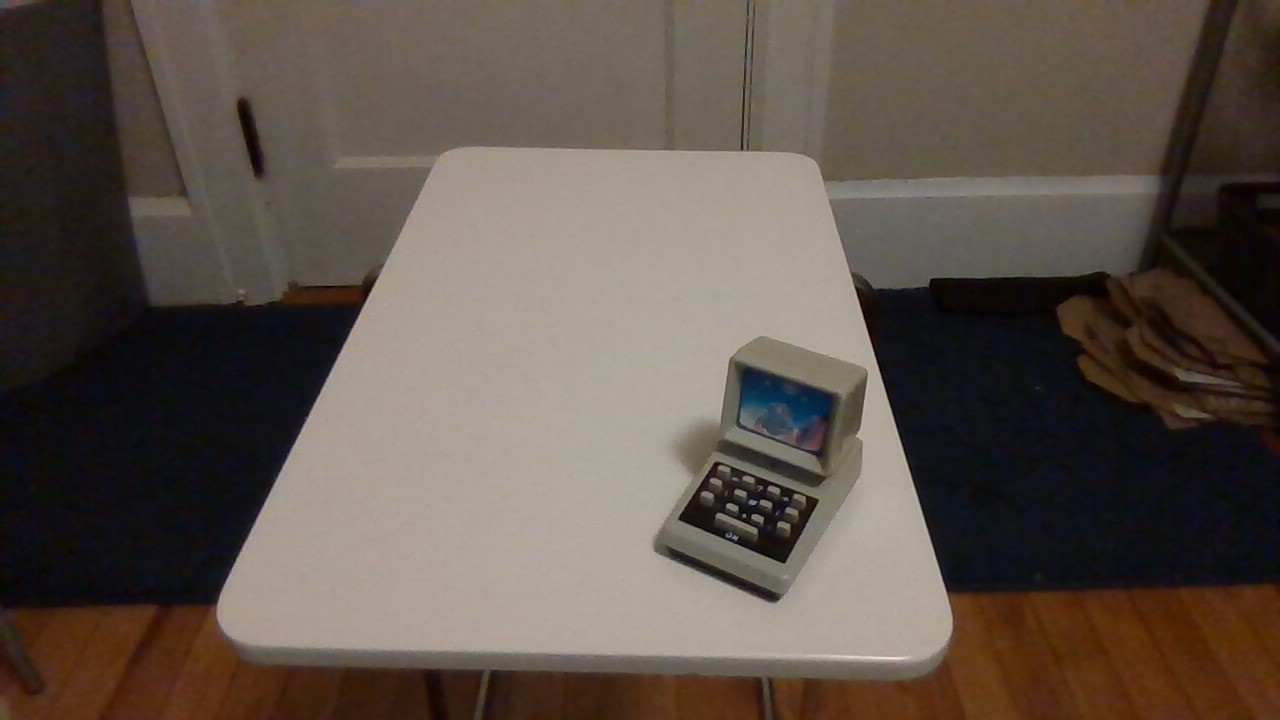Toy: (640, 310, 888, 614)
